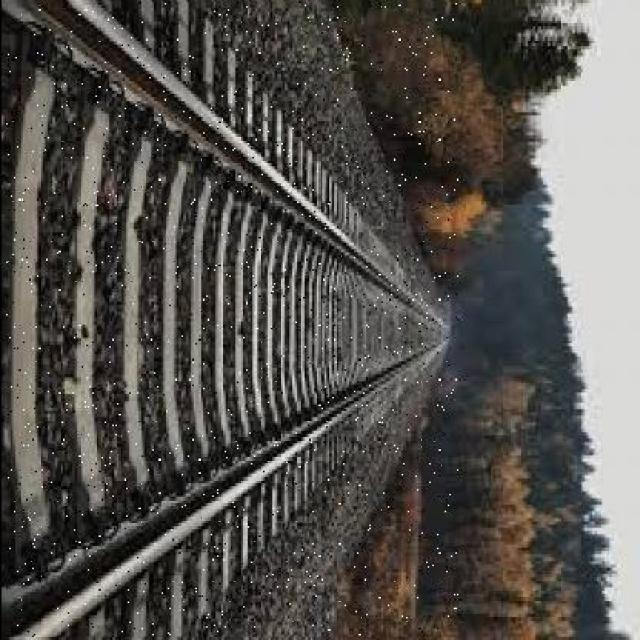rail: (5, 2, 456, 636)
